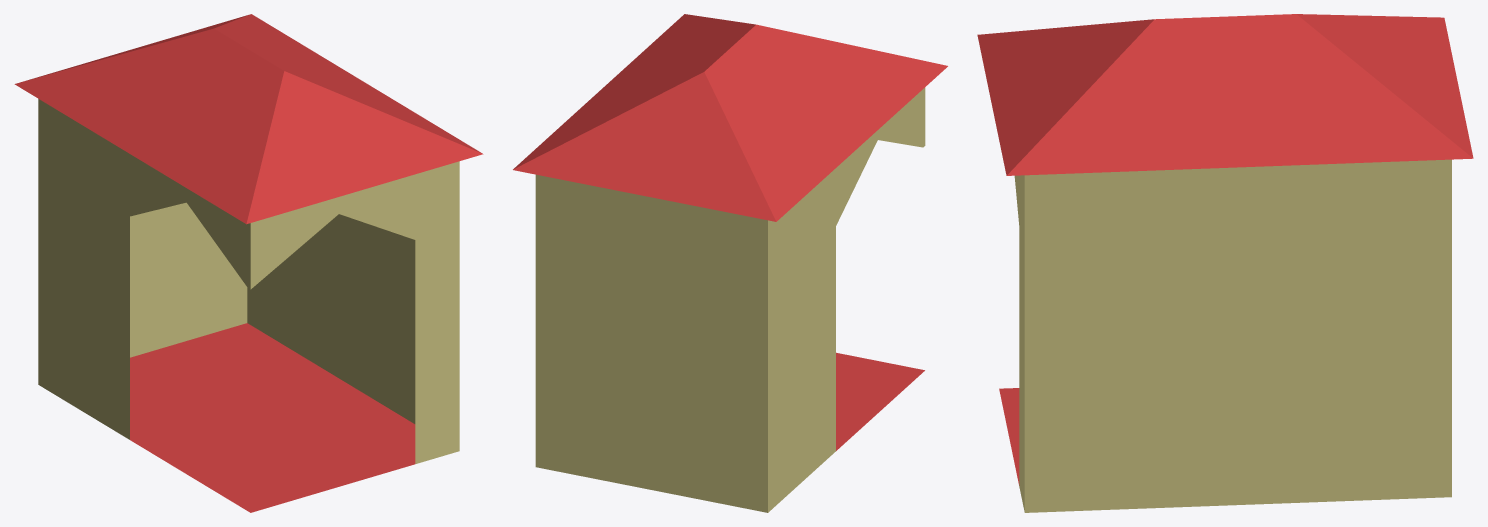
3 renders of one model, left to right at view 1: azimuth 30°, elevation 25°; view 2: azimuth 150°, elevation 25°; view 3: azimuth 270°, elevation 25°, orthographic. The views are drawn at different scales.
Bounding box in the file's own units: 14.04 × 18.58 × 17.62.
